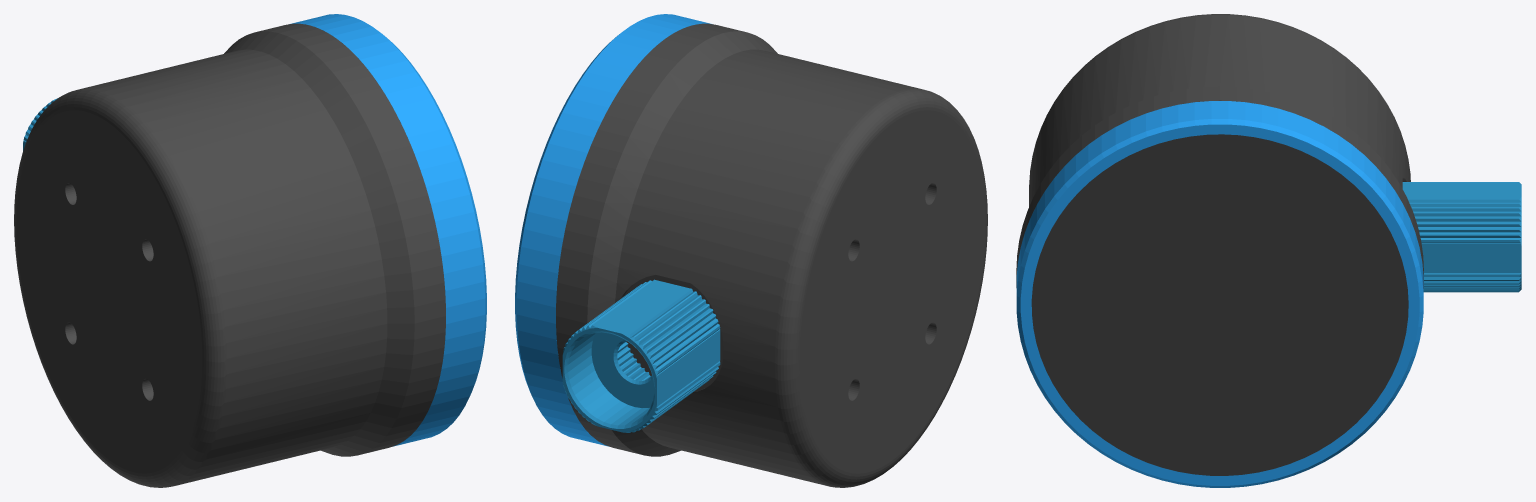
Rendered from ping_sonar.dae.
3 views of the same model, side by side, from view 1: azimuth 30°, elevation 25°; view 2: azimuth 150°, elevation 25°; view 3: azimuth 270°, elevation 25° (orthographic). The views are drawn at different scales.
Visible parts, largest first — view 1: 5ecbbf1e8ff32115cd6ab3e3 (×2); view 2: 5ecbbf1e8ff32115cd6ab3e3 (×3); view 3: 5ecbbf1e8ff32115cd6ab3e3 (×4).
Boxes of the visible parts, x1,y1,x2,y2 form: 5ecbbf1e8ff32115cd6ab3e3 (×2): (14,14,486,487); 5ecbbf1e8ff32115cd6ab3e3 (×3): (515,14,987,487); 5ecbbf1e8ff32115cd6ab3e3 (×4): (1016,14,1521,487).
Bounding box in the file's own units: 0.0345 × 0.0595 × 0.048.
